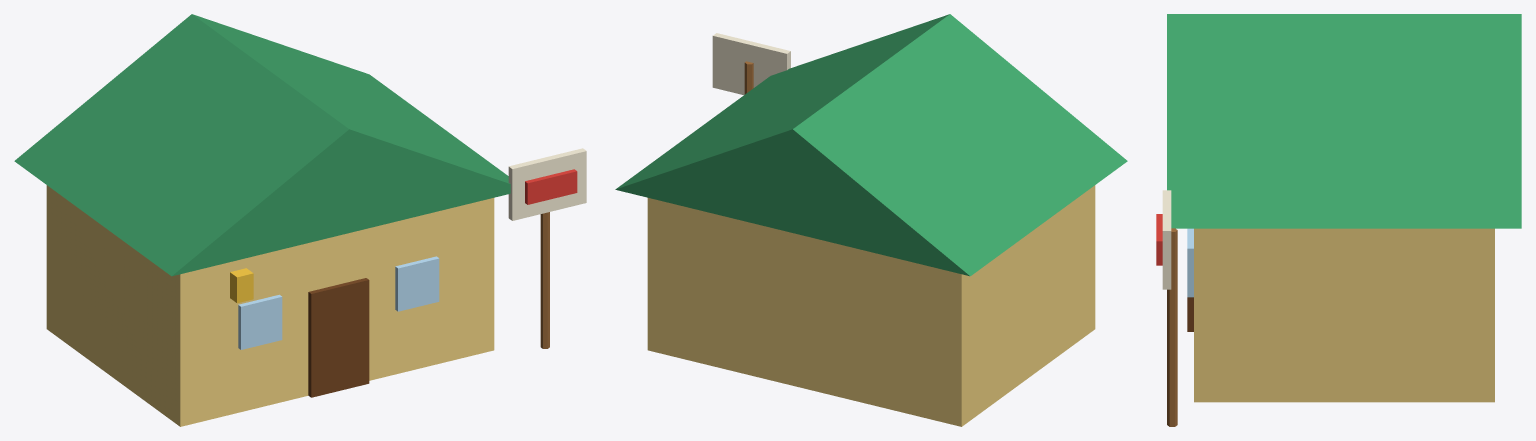
File: b_inn.glb
3 renders of one model, left to right at view 1: azimuth 30°, elevation 25°; view 2: azimuth 150°, elevation 25°; view 3: azimuth 270°, elevation 25°, orthographic. The views are drawn at different scales.
Parts seen in each view (by area): view 1: Roof, Walls, Door, Sign, Window1, Window-1, SignPole, Bed, Lantern; view 2: Roof, Walls, Sign; view 3: Roof, Walls, SignPole, Sign, Window1, Bed.
Part boxes in pixels (x1=…): Roof: x1=14, y1=14, x2=510, y2=276; Walls: x1=46, y1=185, x2=494, y2=426; Door: x1=308, y1=278, x2=369, y2=397; Sign: x1=508, y1=148, x2=586, y2=220; Window1: x1=395, y1=256, x2=439, y2=311; Window-1: x1=238, y1=294, x2=282, y2=349; SignPole: x1=540, y1=212, x2=549, y2=348; Bed: x1=525, y1=169, x2=577, y2=204; Lantern: x1=230, y1=268, x2=253, y2=303; Roof: x1=615, y1=14, x2=1127, y2=276; Walls: x1=647, y1=185, x2=1095, y2=426; Sign: x1=712, y1=33, x2=790, y2=94; Roof: x1=1167, y1=14, x2=1521, y2=228; Walls: x1=1194, y1=228, x2=1494, y2=402; SignPole: x1=1167, y1=228, x2=1177, y2=426; Sign: x1=1162, y1=190, x2=1171, y2=289; Window1: x1=1187, y1=228, x2=1193, y2=297; Bed: x1=1156, y1=214, x2=1162, y2=265.
Bounding box in the file's own units: 5 × 3.1 × 3.4.
